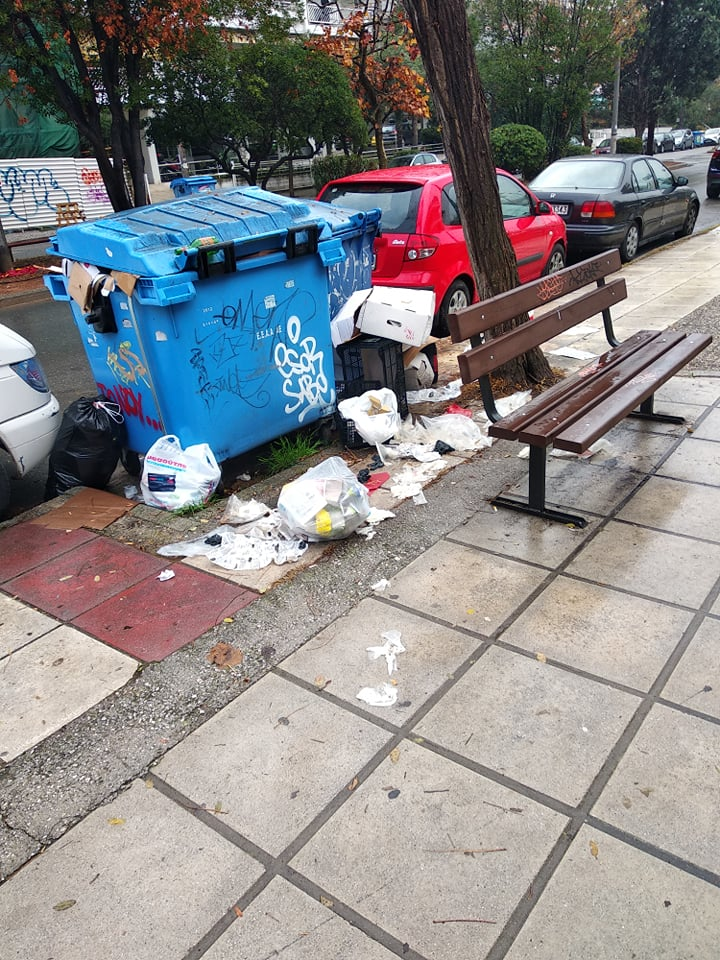trash: (315, 278, 502, 488), (165, 450, 373, 587), (47, 387, 126, 508), (131, 431, 229, 522)
